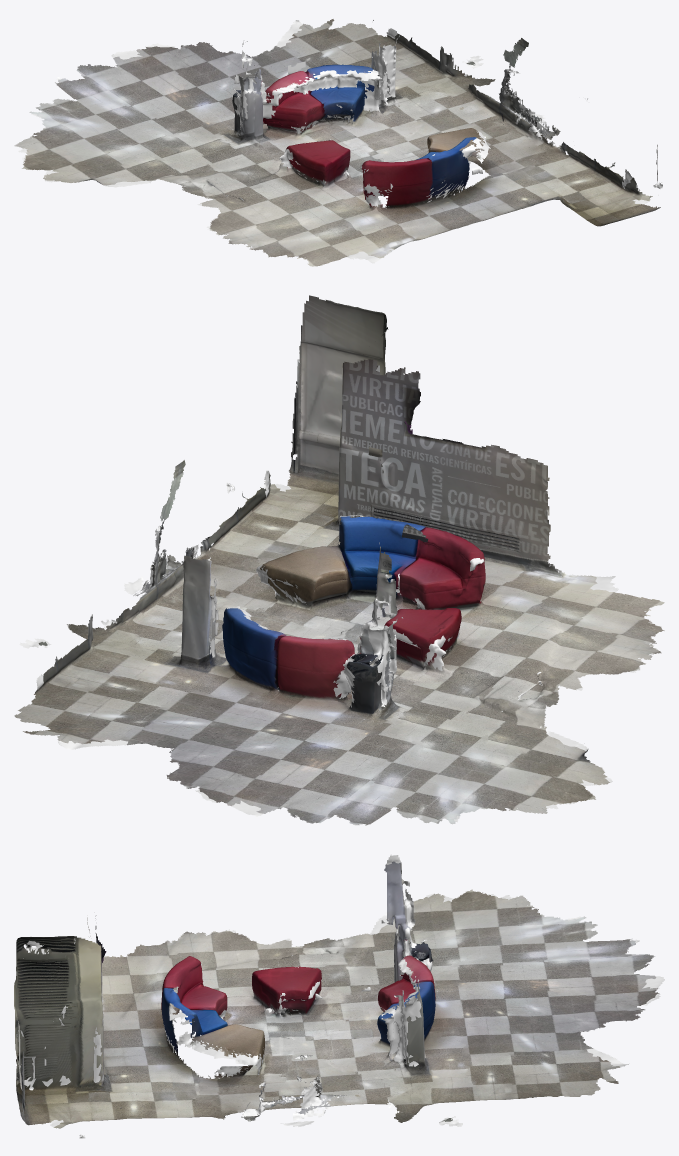
3 views of the same model, one above another, from view 1: azimuth 30°, elevation 25°; view 2: azimuth 150°, elevation 25°; view 3: azimuth 270°, elevation 25° (orthographic). The views are drawn at different scales.
Visible parts, largest first — view 1: texture_1, texture_2, texture_5, texture_3, texture_0, object 1; view 2: texture_1, texture_3, texture_2, texture_0, texture_5, object 1, texture_4; view 3: texture_1, texture_3, texture_0, texture_5, texture_2, object 1, texture_4.
Part boxes in pixels (x1,y1,x2,y2): texture_1: [14, 48, 441, 210]; texture_2: [200, 109, 502, 266]; texture_5: [255, 34, 595, 206]; texture_3: [136, 19, 579, 177]; texture_0: [342, 112, 652, 246]; object 1: [18, 20, 662, 263]; texture_1: [55, 549, 609, 825]; texture_3: [14, 460, 456, 806]; texture_2: [283, 439, 664, 707]; texture_0: [193, 300, 570, 612]; texture_5: [41, 521, 460, 700]; object 1: [19, 332, 639, 825]; texture_4: [287, 295, 340, 484]; texture_1: [174, 889, 656, 1102]; texture_3: [173, 861, 658, 1122]; texture_0: [14, 915, 225, 1128]; texture_5: [103, 969, 441, 1121]; texture_2: [87, 917, 400, 1091]; object 1: [16, 854, 664, 1138]; texture_4: [16, 953, 74, 1125].
Size of the model in its own units: 8.44 by 2.47 by 9.28.
7 materials, 6 textured.
